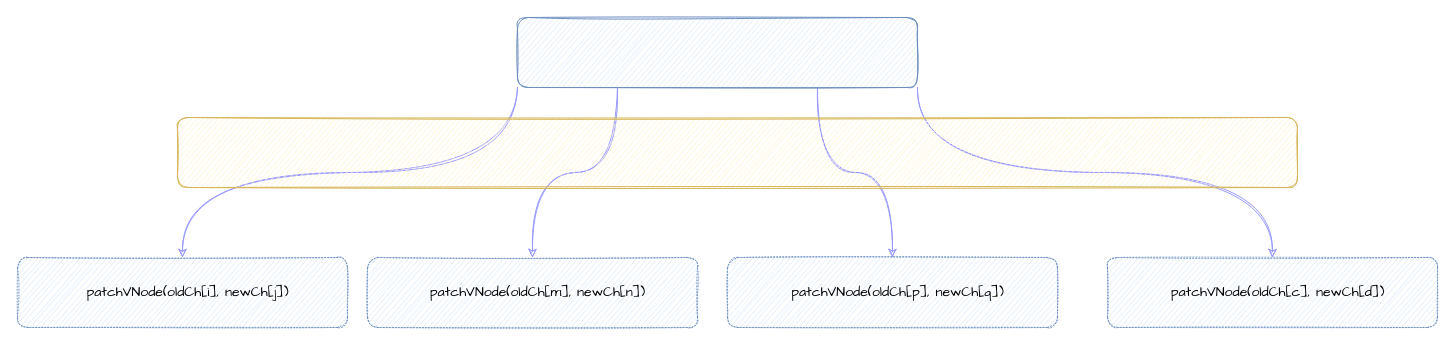
Image size: 1455x345. Some labels were removed from this diagram. Each missing label, with the centre of its shape:
patchVNode(oldVNode, newVNode): point 717,52
updateChildren: point 737,152
